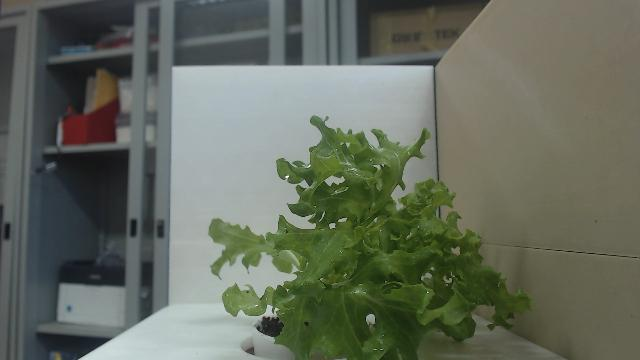Harvest Stage: (206, 110, 534, 360)
